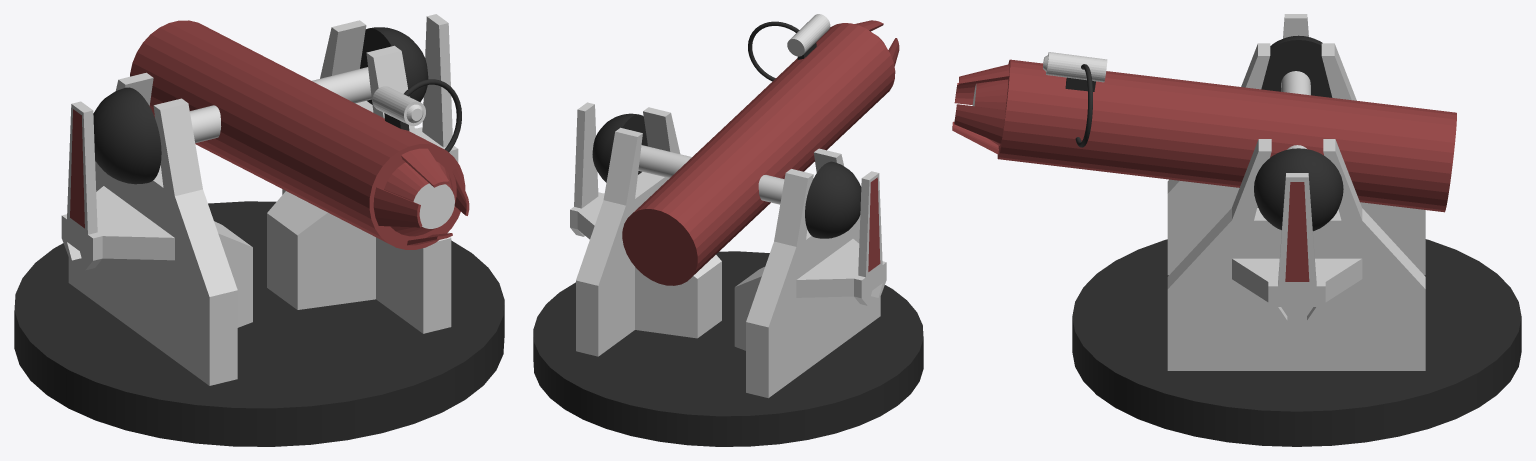
The model's file is Mesh_GroundTurret_m01_v01.fbx.
3 renders of one model, left to right at view 1: azimuth 30°, elevation 25°; view 2: azimuth 150°, elevation 25°; view 3: azimuth 270°, elevation 25°, orthographic. The views are drawn at different scales.
Visible parts, largest first — view 1: Base_2, Gun_2, Base_stand_1, Base_stand_2, Base_bar_end2, Base_bar, Base_bar_end1, Camera_2, wire_camera_2; view 2: Base_2, Gun_2, Base_stand_1, Base_stand_2, Base_bar_end2, Base_bar, Base_bar_end1, Camera_2, wire_camera_2; view 3: Base_2, Gun_2, Base_stand_2, Base_stand_1, Base_bar_end1, Base_bar_end2, Camera_2, Base_bar.
Part boxes in pixels (left/top/right/bottom): Base_2: left=14, top=201, right=504, bottom=446; Gun_2: left=130, top=20, right=469, bottom=249; Base_stand_1: left=61, top=72, right=252, bottom=385; Base_stand_2: left=267, top=14, right=458, bottom=333; Base_bar_end2: left=93, top=87, right=161, bottom=184; Base_bar: left=190, top=67, right=371, bottom=142; Base_bar_end1: left=360, top=27, right=428, bottom=104; Camera_2: left=372, top=86, right=425, bottom=125; wire_camera_2: left=404, top=79, right=461, bottom=152; Base_2: left=533, top=251, right=923, bottom=446; Gun_2: left=622, top=20, right=899, bottom=285; Base_stand_1: left=734, top=148, right=886, bottom=398; Base_stand_2: left=570, top=102, right=721, bottom=356; Base_bar_end2: left=805, top=161, right=861, bottom=238; Base_bar: left=638, top=145, right=784, bottom=204; Base_bar_end1: left=592, top=113, right=647, bottom=182; Camera_2: left=787, top=14, right=830, bottom=56; wire_camera_2: left=748, top=21, right=799, bottom=81; Base_2: left=1072, top=239, right=1521, bottom=446; Gun_2: left=952, top=59, right=1456, bottom=212; Base_stand_2: left=1167, top=139, right=1425, bottom=370; Base_stand_1: left=1167, top=14, right=1425, bottom=275; Base_bar_end1: left=1254, top=148, right=1343, bottom=231; Base_bar_end2: left=1261, top=35, right=1332, bottom=97; Camera_2: left=1043, top=52, right=1107, bottom=82; Base_bar: left=1281, top=71, right=1310, bottom=149.
Bounding box in the file's own units: 1.81 × 1.37 × 2.3.
